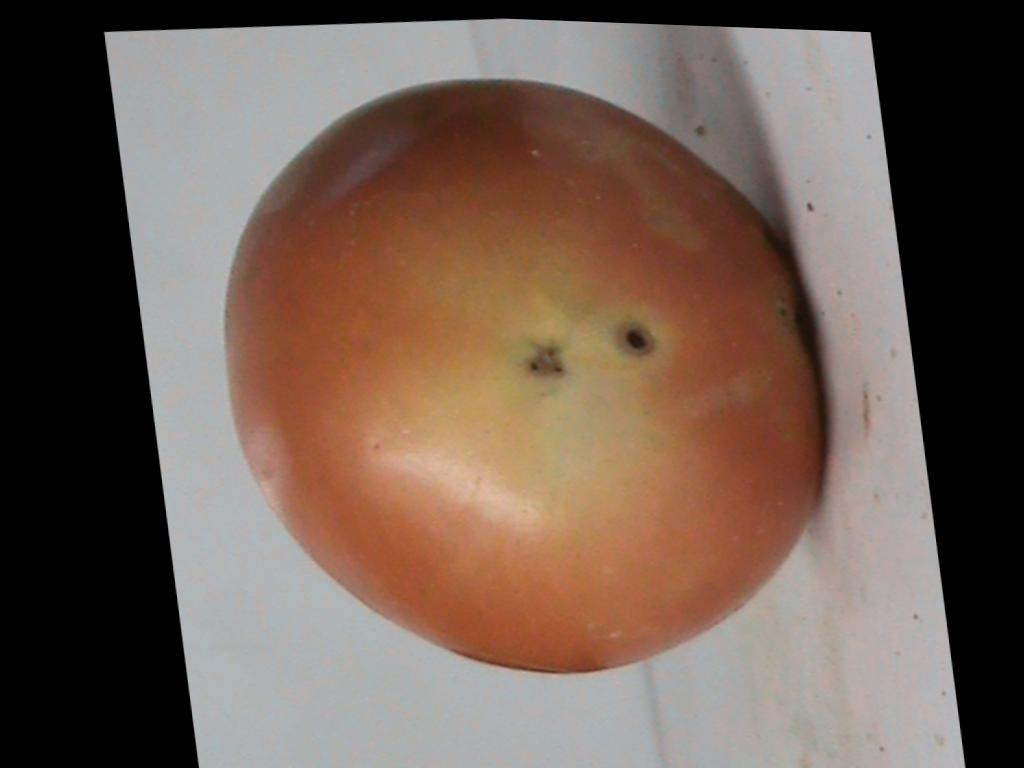bruise_discoloration: (374, 226, 691, 562)
rot_mold_decay: (521, 342, 566, 380), (613, 321, 652, 354)
tomato: (225, 79, 819, 671)
